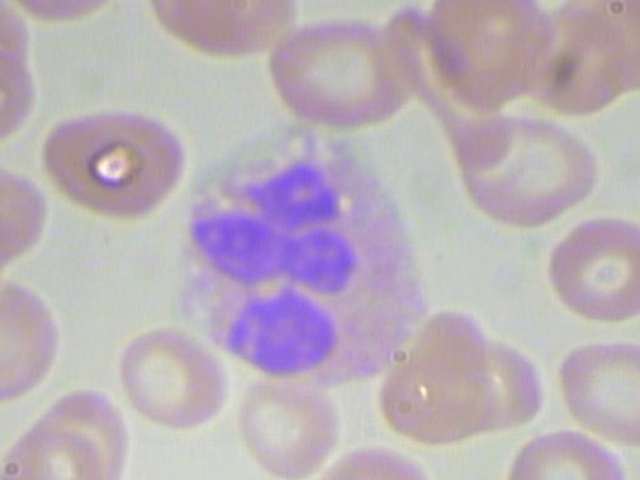RBC: (25, 97, 206, 227), (256, 19, 425, 128), (457, 113, 596, 227), (537, 210, 640, 340), (114, 324, 235, 431), (241, 376, 345, 480), (554, 336, 640, 452), (0, 272, 73, 403), (484, 421, 634, 480), (0, 418, 129, 480)
WBC: (158, 127, 435, 389)
